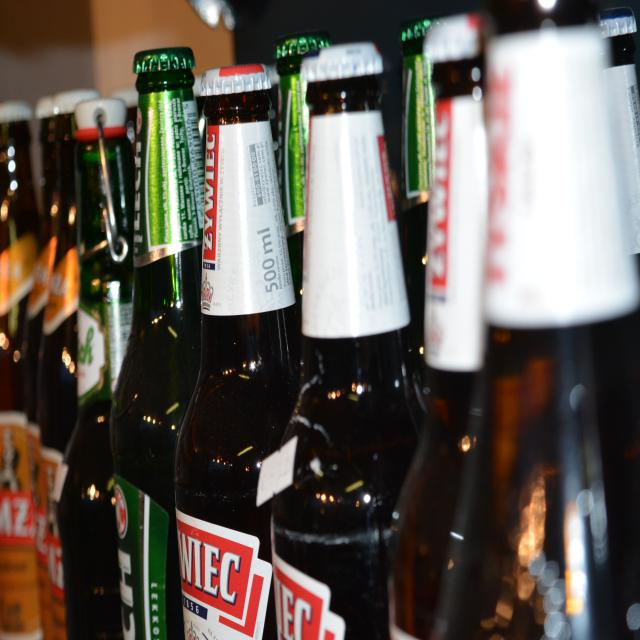Bottle: (418, 0, 638, 639), (267, 43, 422, 639), (175, 65, 299, 639), (389, 14, 487, 638), (110, 48, 204, 638), (58, 99, 134, 639), (37, 90, 98, 639), (0, 102, 41, 639), (23, 96, 58, 639), (275, 32, 330, 319), (594, 311, 639, 639), (400, 19, 434, 388), (0, 101, 39, 411), (22, 96, 57, 421), (600, 8, 639, 258), (110, 87, 138, 157), (265, 65, 279, 153), (193, 75, 206, 154)
